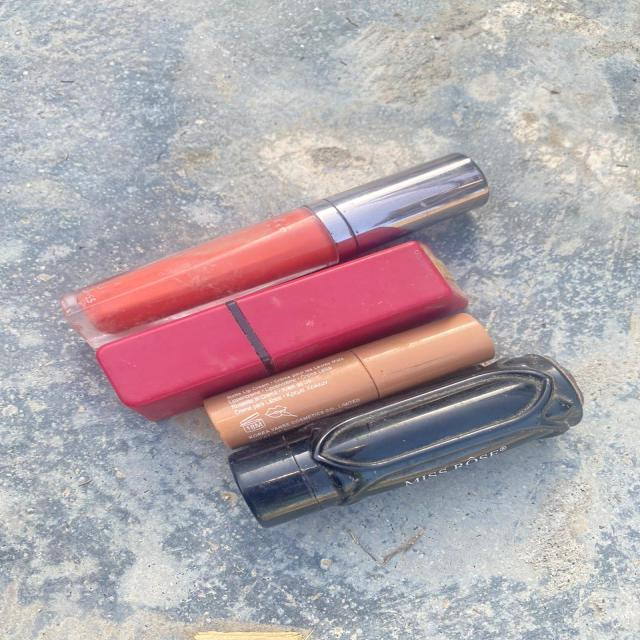lip gloss: (66, 147, 498, 330)
lip stick: (205, 303, 588, 530), (94, 224, 433, 407)
